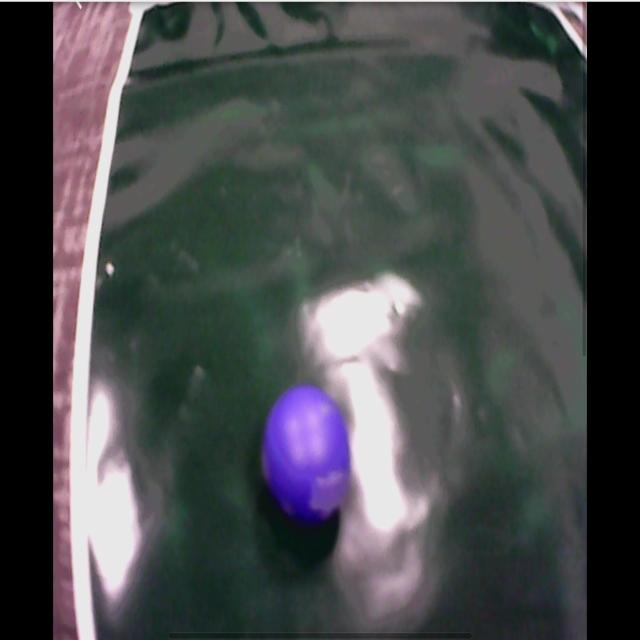ball: (265, 388, 349, 527)
